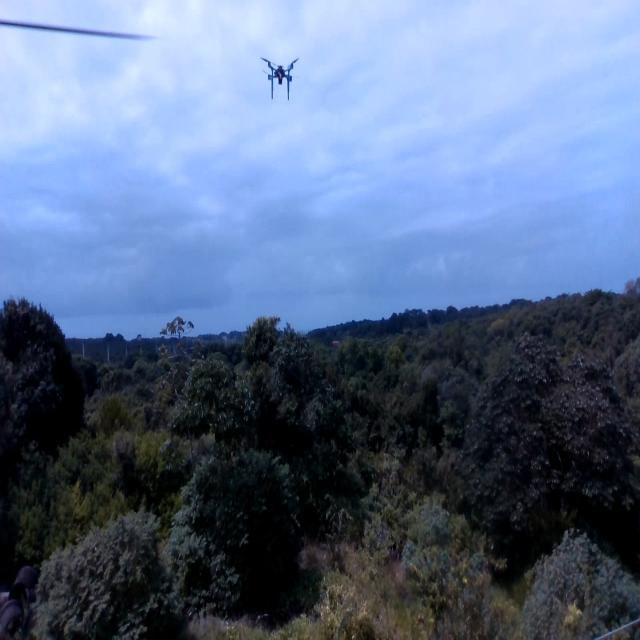-uav-: (254, 40, 307, 111)
